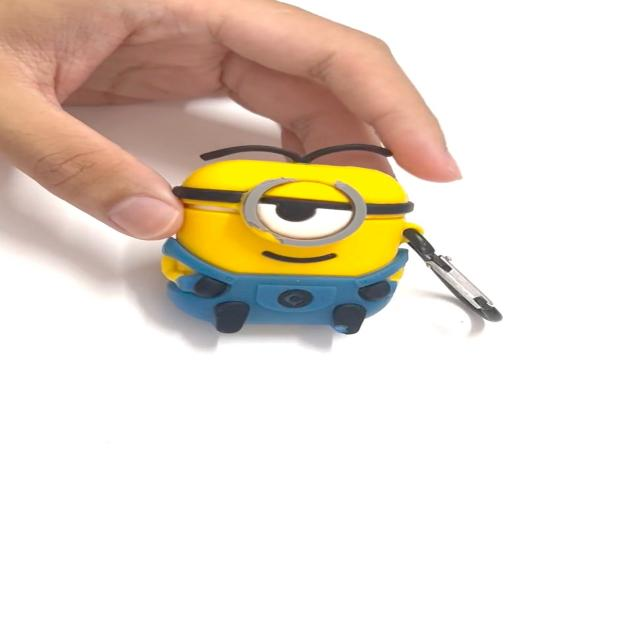airpod minion: (164, 140, 526, 356)
